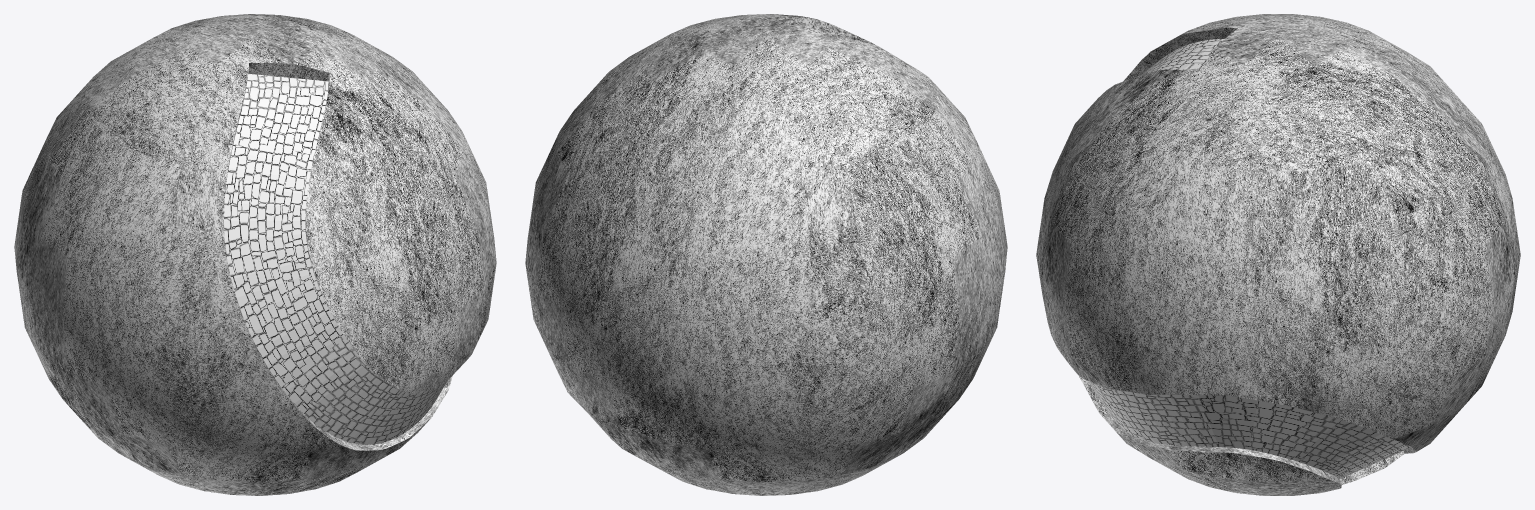
Rendered from globe.glb.
The picture shows the model from 3 angles, left to right: view 1: azimuth 30°, elevation 25°; view 2: azimuth 150°, elevation 25°; view 3: azimuth 270°, elevation 25°; orthographic projection.
Visible parts, largest first — view 1: Planet; view 2: Planet; view 3: Planet.
Boxes of the visible parts, <box> form: Planet: <box>14,14,496,495</box>; Planet: <box>525,14,1007,495</box>; Planet: <box>1036,14,1520,495</box>.
Size of the model in its own units: 3.41 by 3.43 by 3.43.
Materials: 1 (1 with a texture image).
